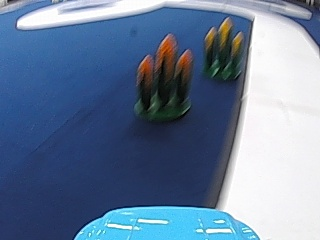corn: (132, 35, 194, 125), (203, 16, 243, 83)
